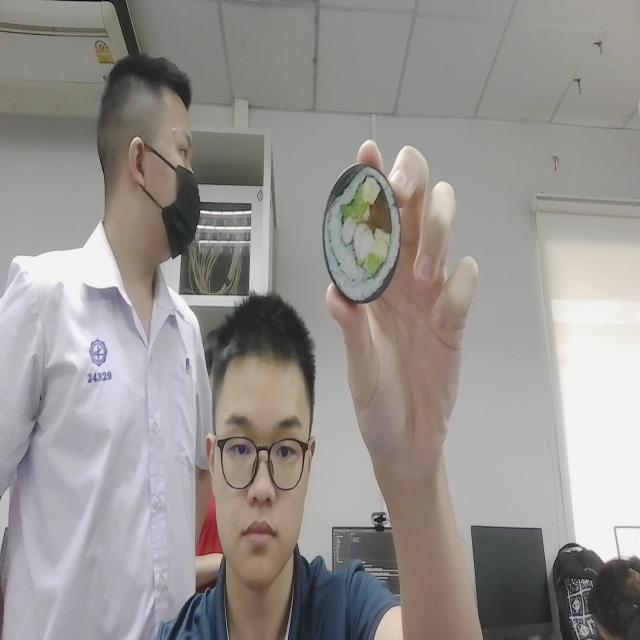sushi: (317, 147, 405, 321)
